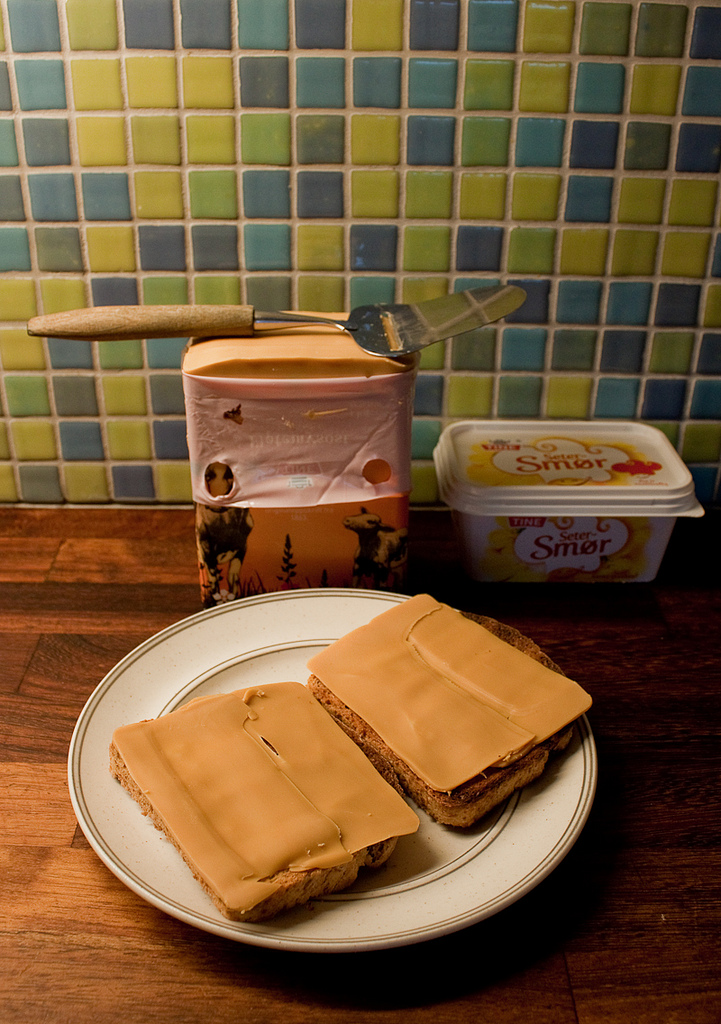slice of bread: (297, 574, 607, 838), (93, 706, 428, 924)
